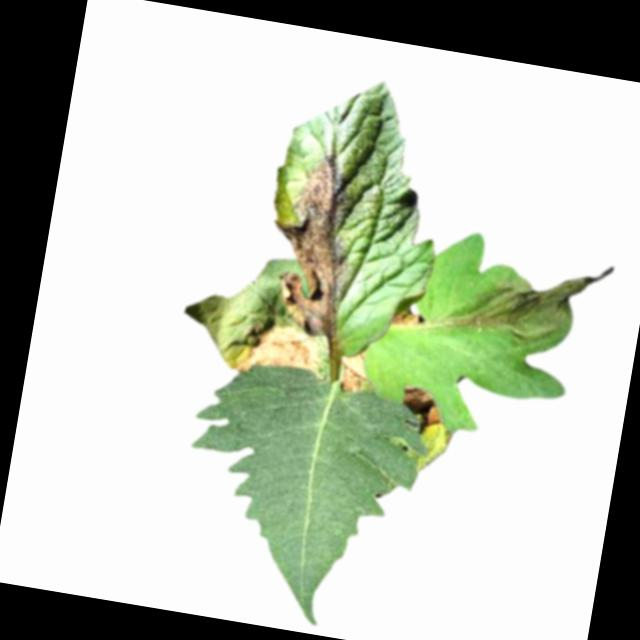Late_blight: (256, 147, 369, 341), (454, 240, 616, 357), (232, 316, 329, 387), (398, 382, 449, 429), (336, 350, 373, 398), (390, 308, 423, 332)
healthy: (161, 351, 435, 639)
